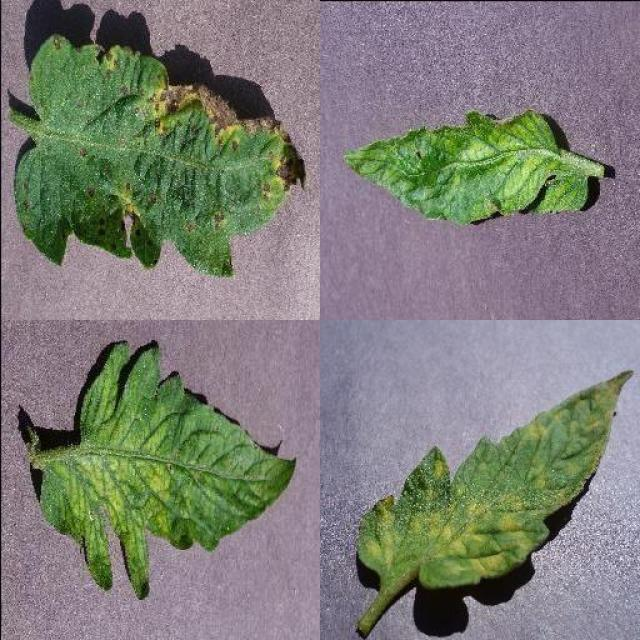Septoria: (14, 34, 304, 278)
